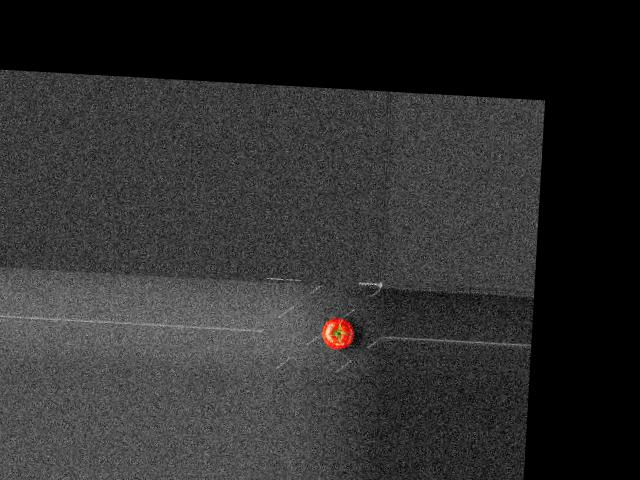tomato: (320, 316, 354, 350)
